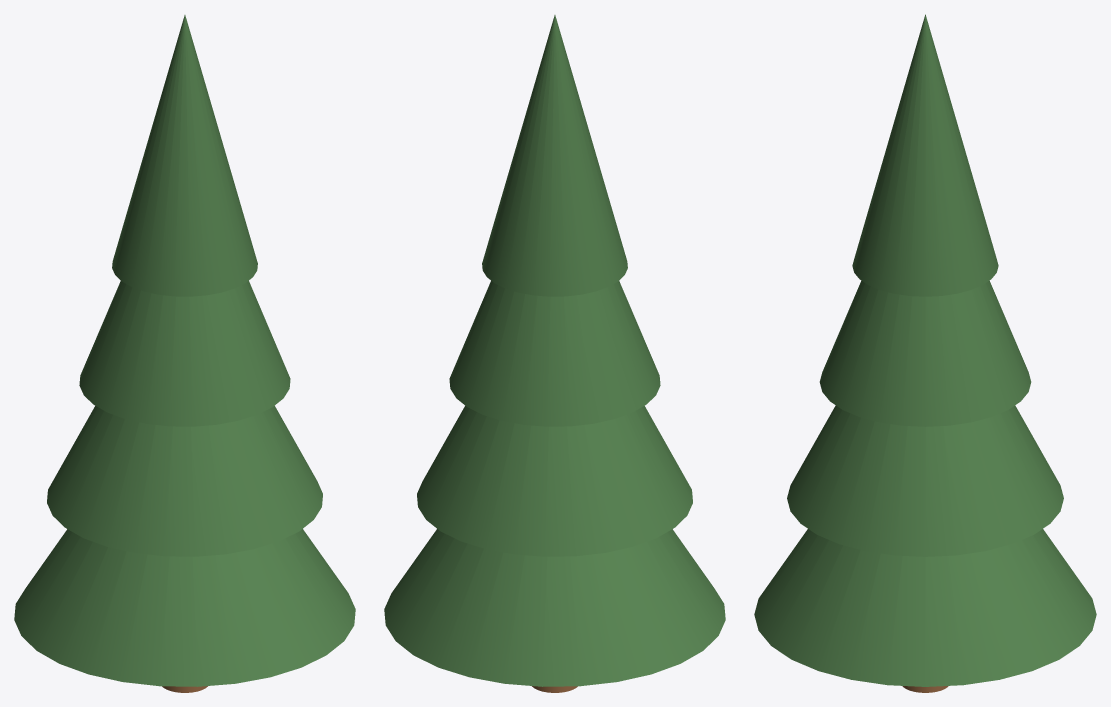
File: wp-sapin.glb
3 renders of one model, left to right at view 1: azimuth 30°, elevation 25°; view 2: azimuth 150°, elevation 25°; view 3: azimuth 270°, elevation 25°, orthographic.
Parts seen in each view (by area): view 1: wp-sapin; view 2: wp-sapin; view 3: wp-sapin.
Part boxes in pixels (x1,y1,x2,y2): wp-sapin: (14, 15, 355, 692); wp-sapin: (384, 15, 725, 692); wp-sapin: (754, 14, 1096, 692).
Bounding box in the file's own units: 1.3 × 2.8 × 1.3.
